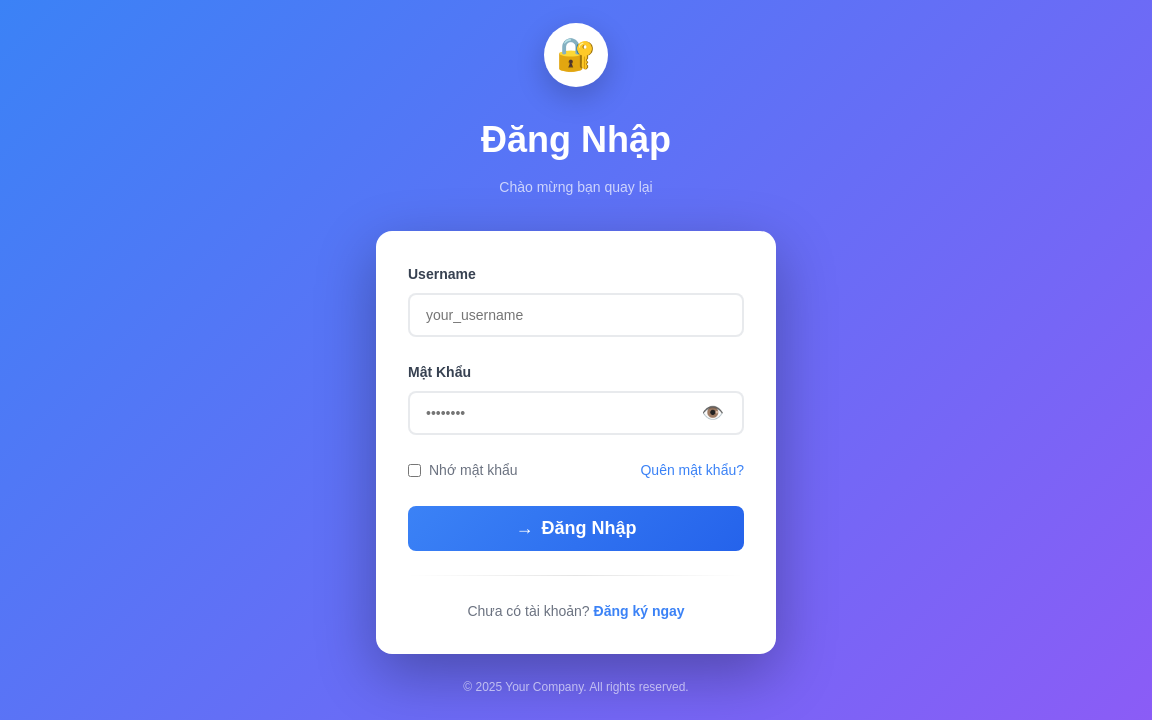
it: Login - Integration Testing › Test 3: Error Handling và Success Messages › nên hiển thị error khi username trống
This screenshot has width=1152, height=720.
Click the button "→ Đăng Nhập" at (576, 528), box [408,506,744,551]
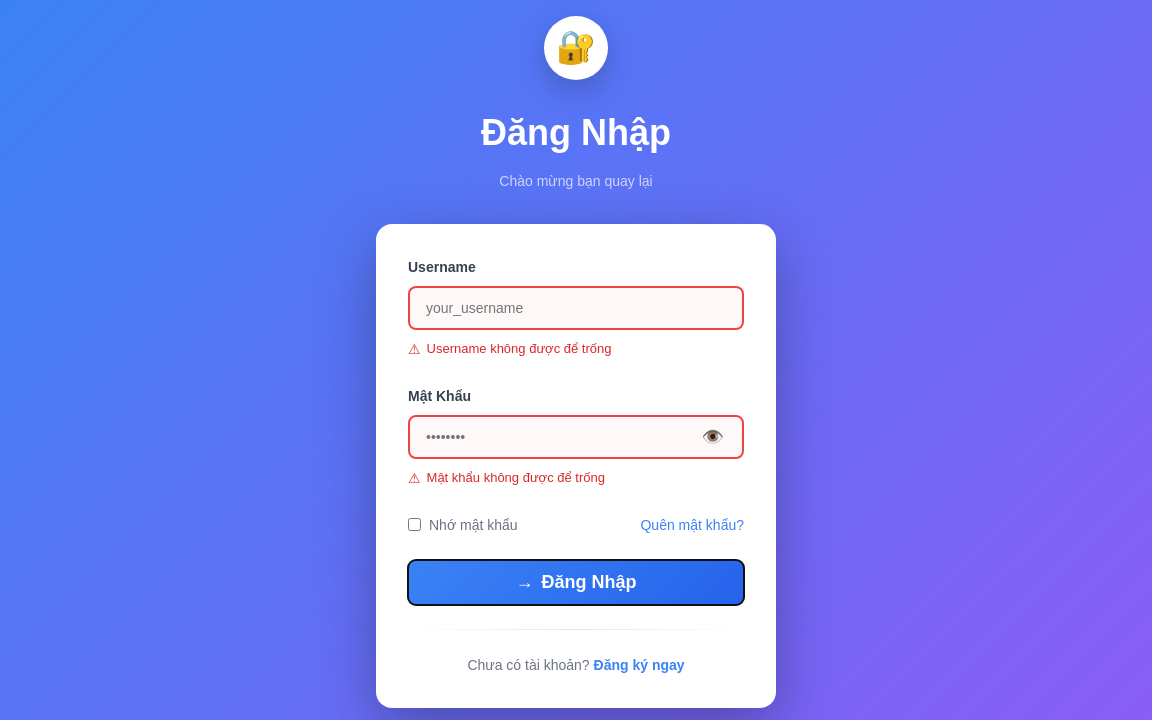
Expected: the text "⚠ Username không được để trống" is shown, [408,341,612,357]
